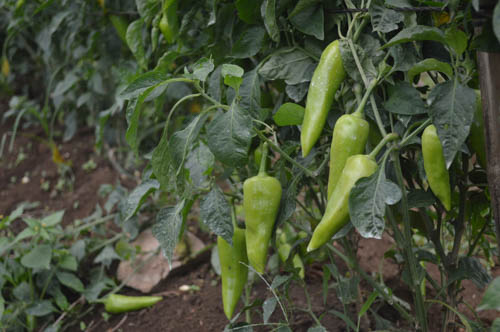ChiliPepper: (307, 152, 376, 266), (301, 40, 346, 161), (244, 176, 280, 280), (328, 117, 366, 205), (419, 124, 454, 212), (215, 233, 247, 323), (97, 298, 156, 312)
